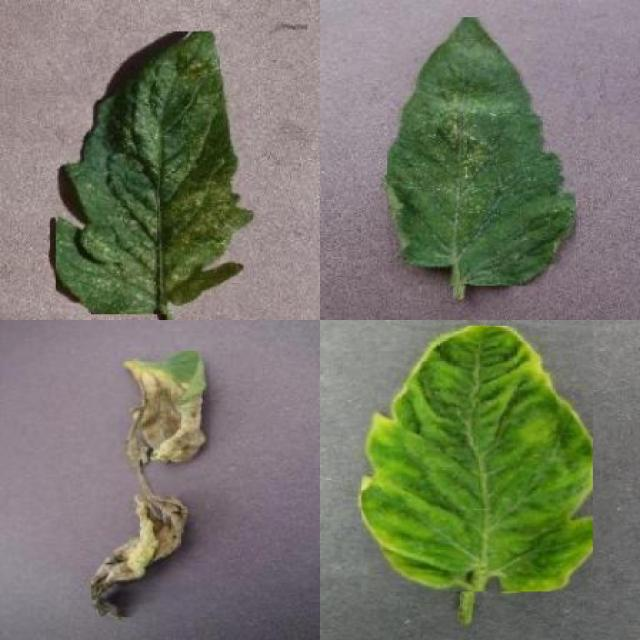Late Blight: (90, 350, 210, 617)
Spider Mites: (56, 32, 254, 314), (387, 17, 576, 286)
Yellow Leaf Curl Virus: (361, 327, 593, 592)
